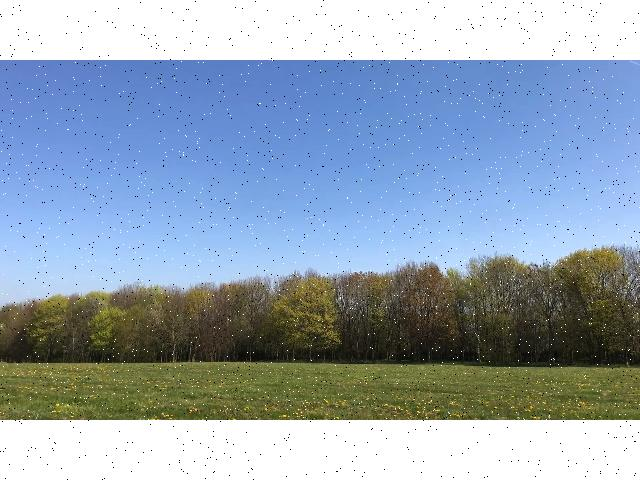Anti-Drone: (298, 209, 330, 225)
